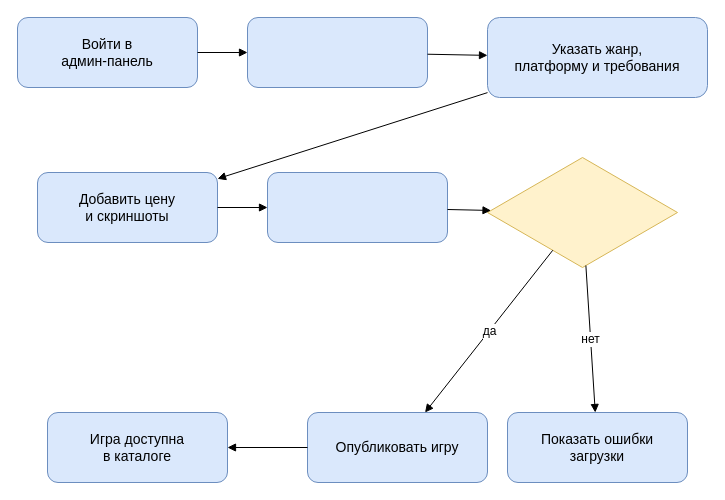
Some shapes in this 725 by 500 pixel diagram are drawn without their labels. The shapes that lost their labels are listed below. From the top down, each one's centre as x and y in pixels, then its label:
At point 337,52: "Создать карточку игры".
At point 357,207: "Загрузить партию ключей".
At point 582,212: "Ключи валидны и не дублируются?".
